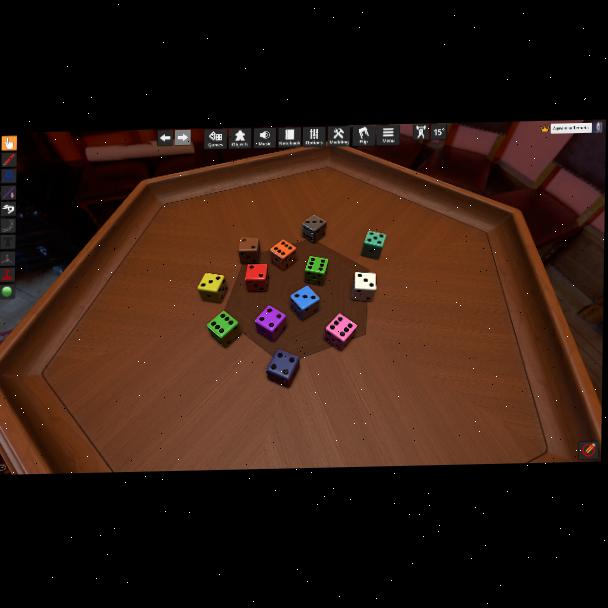d6: (207, 310, 241, 348), (266, 349, 299, 388), (325, 313, 357, 351), (253, 306, 285, 342), (290, 286, 319, 322), (197, 272, 226, 304), (270, 240, 296, 271), (351, 272, 376, 302), (301, 215, 326, 245), (361, 230, 385, 261), (244, 263, 268, 293), (304, 256, 328, 286), (237, 238, 259, 265)
